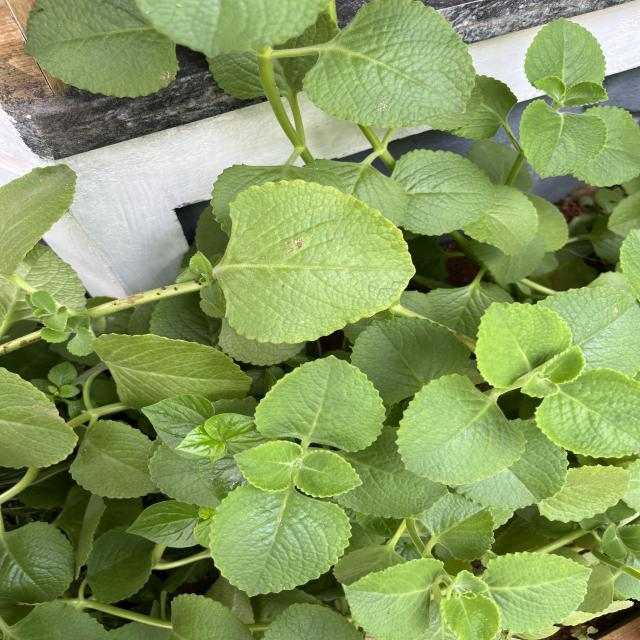Plectranthus barbatus: (218, 178, 418, 345), (300, 0, 478, 128), (208, 484, 356, 598), (21, 0, 189, 99), (394, 372, 530, 486), (255, 352, 390, 454), (347, 314, 475, 406), (94, 330, 256, 401), (533, 366, 640, 459), (481, 550, 593, 634), (392, 148, 498, 236), (474, 300, 575, 389), (340, 557, 446, 640), (516, 98, 610, 180), (70, 416, 159, 499), (523, 15, 607, 100), (2, 518, 77, 604), (462, 184, 539, 256), (232, 439, 303, 493), (294, 448, 366, 498)
